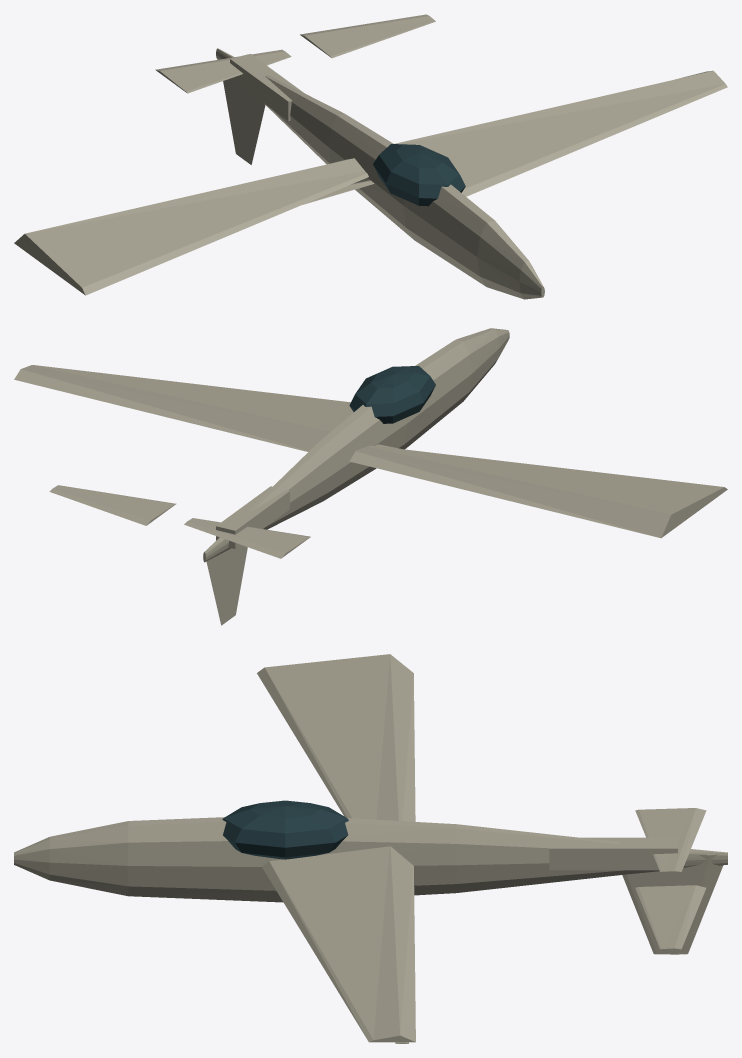
3 renders of one model, top to bottom at view 1: azimuth 30°, elevation 25°; view 2: azimuth 150°, elevation 25°; view 3: azimuth 270°, elevation 25°, orthographic. The views are drawn at different scales.
Visible parts, largest first — view 1: Wing_L, Fuselage, Wing_R, Cockpit, Elevator_R, Rudder, Elevator_L, TailBoom; view 2: Wing_L, Wing_R, Fuselage, Cockpit, Elevator_R, Rudder, Elevator_L, TailBoom; view 3: Fuselage, Wing_R, Wing_L, Cockpit, TailBoom, Elevator_R, Rudder, Elevator_L.
Boxes of the visible parts, x1,y1,x2,y2 form: Wing_L: (14, 158, 368, 295); Fuselage: (216, 48, 544, 299); Wing_R: (394, 70, 727, 196); Cockpit: (373, 144, 465, 206); Elevator_R: (300, 14, 435, 58); Rudder: (223, 78, 265, 164); Elevator_L: (155, 49, 291, 93); TailBoom: (230, 54, 303, 121); Wing_L: (349, 445, 727, 538); Wing_R: (14, 365, 353, 451); Fuselage: (203, 328, 509, 562); Cockpit: (349, 366, 435, 423); Elevator_R: (49, 485, 176, 525); Rudder: (206, 545, 247, 625); Elevator_L: (184, 518, 310, 558); TailBoom: (216, 486, 289, 548); Fuselage: (14, 817, 727, 902); Wing_R: (262, 846, 415, 1042); Wing_L: (257, 654, 415, 821); Cockpit: (222, 800, 348, 859); TailBoom: (549, 837, 677, 870); Elevator_R: (635, 885, 706, 949); Rudder: (622, 854, 723, 954); Elevator_L: (635, 808, 706, 871).
Size of the model in its own units: 14.02 by 2.6 by 11.4.
